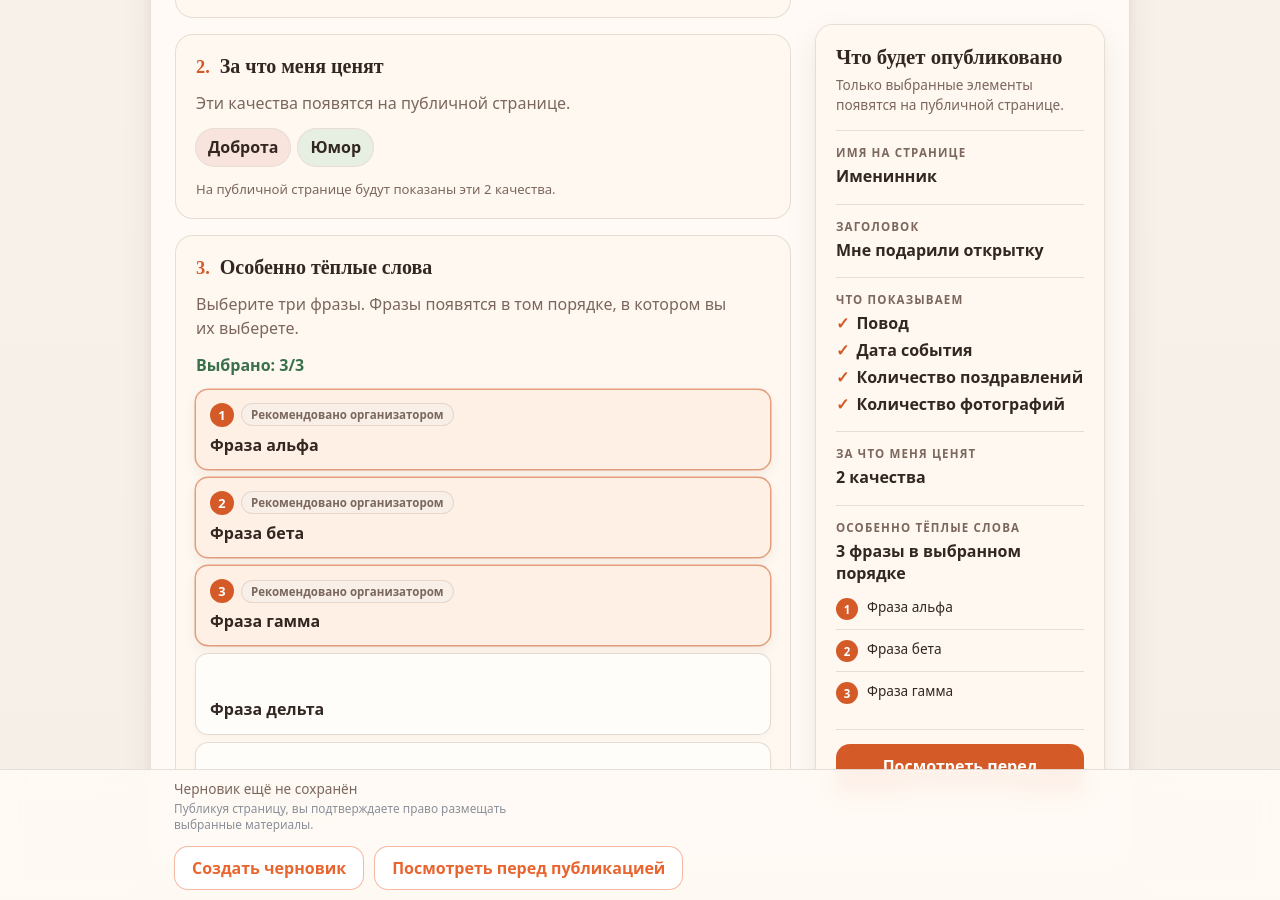
Scenario: PublicSharePanel: выбор фраз › блокирует невыбранные карточки при лимите в 3 фразы
(page scrolled)
What coordinates should you click on to do the following:
click the checkbox labelled "Фраза дельта"
I would click on:
 (483, 694)
Its box is [196,654,770,734].
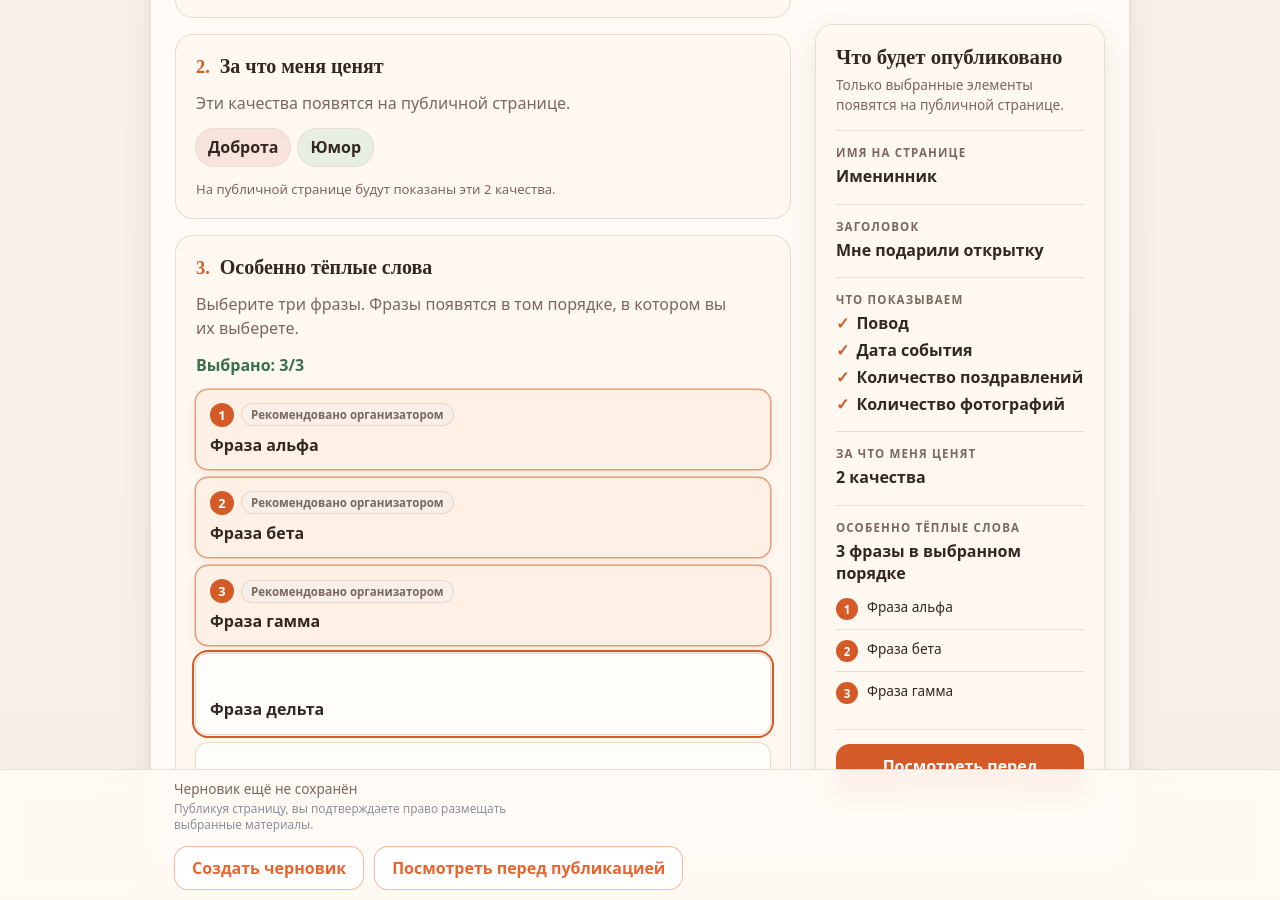
Expected: the text "Выбрано: 3/3" is shown, [196,354,304,376]
Note: После снятия одной — карточка разблокируется и выбирается третьей
What coordinates should you click on to do the following:
click the checkbox labelled "Фраза альфа"
I would click on:
 (483, 429)
Its box is [196,390,770,469].
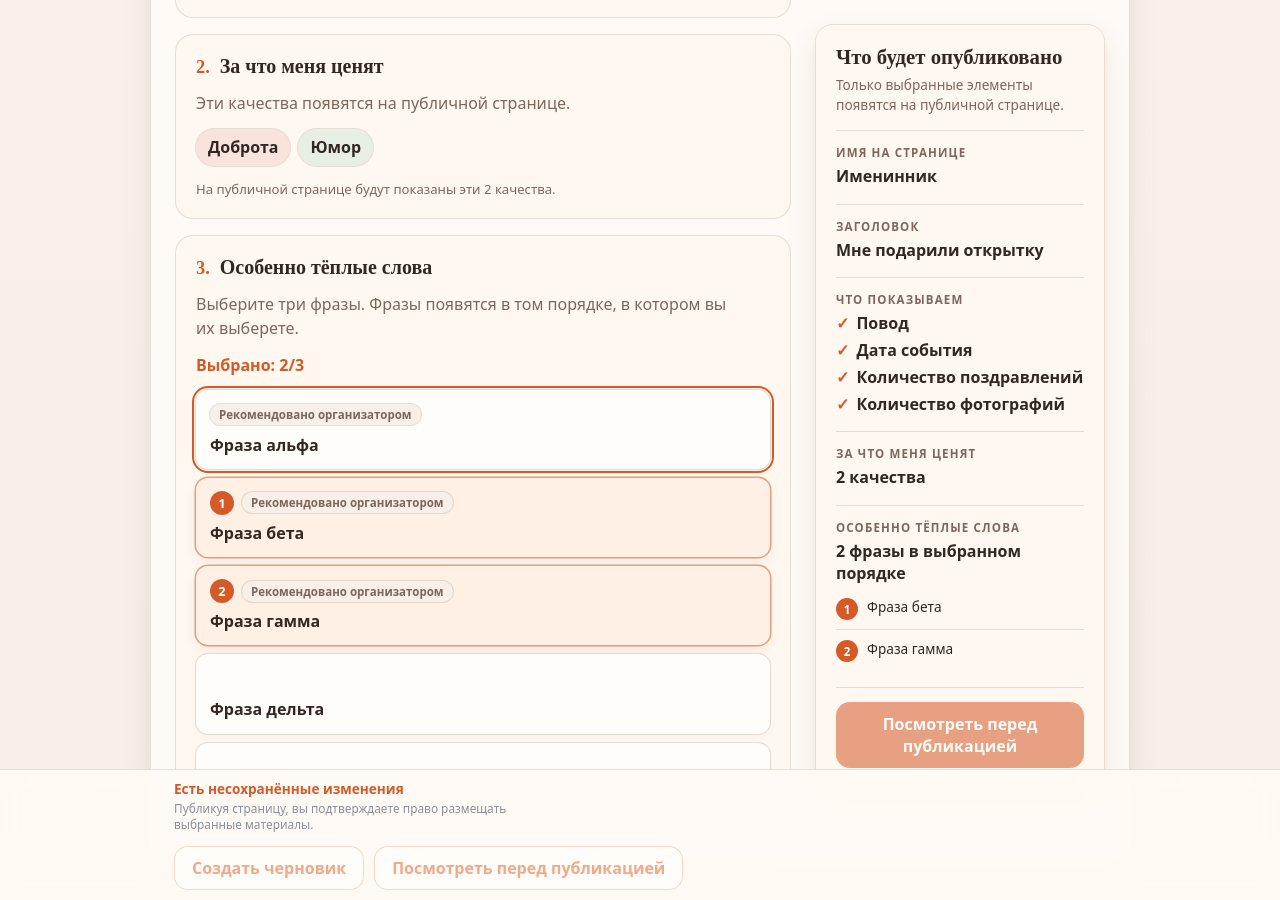
What coordinates should you click on to do the following:
click the checkbox labelled "Фраза дельта"
I would click on:
 (483, 694)
Its box is [196,654,770,734].
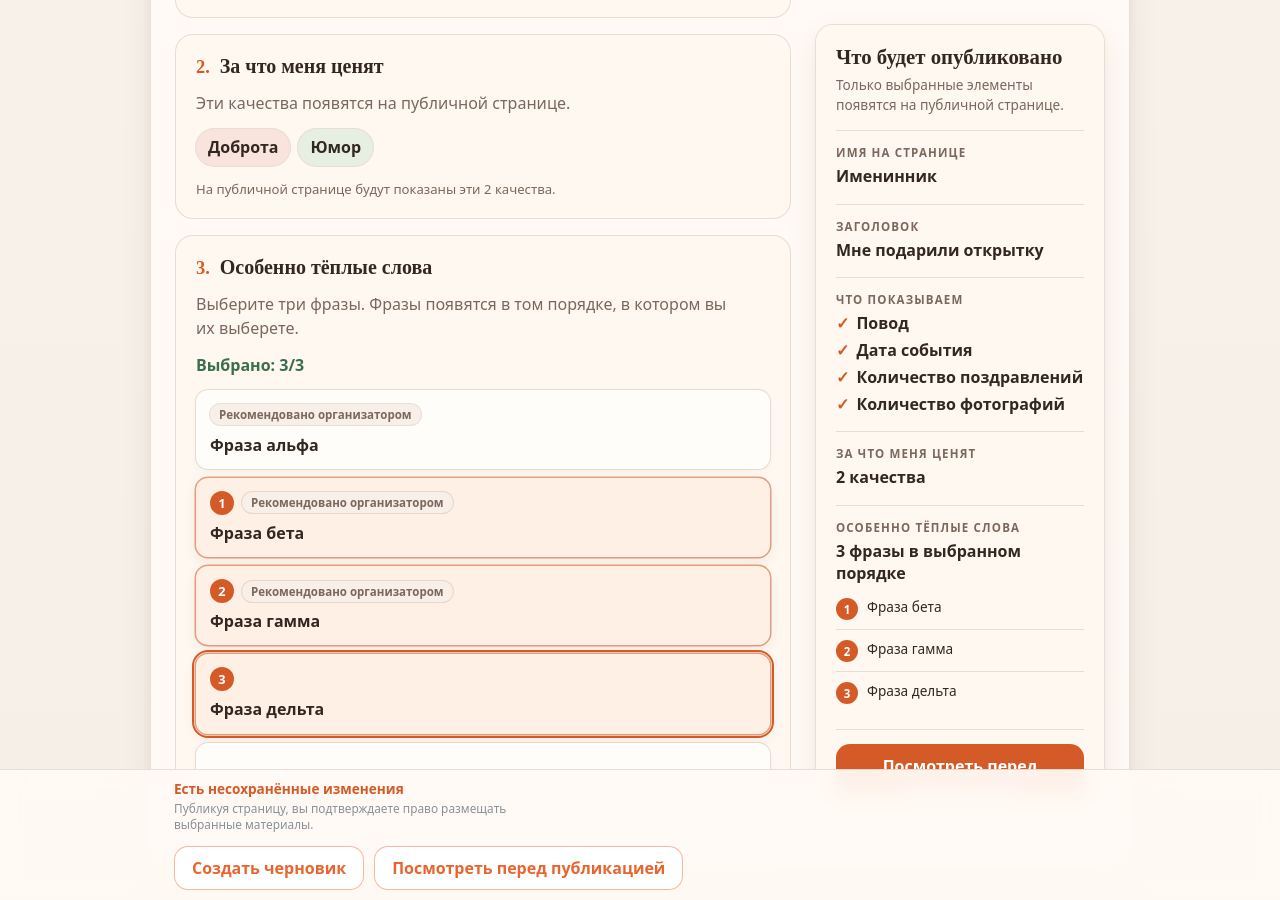
Now the text named "Порядок на странице: 3" is shown, box [210,667,234,691]
